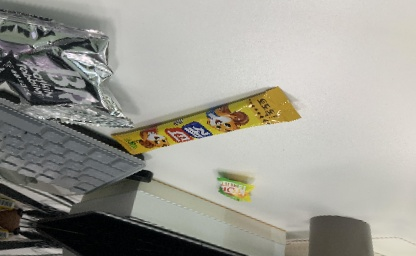br: (0, 1, 155, 142)
jeli: (211, 170, 256, 208)
jt: (105, 57, 307, 187)
